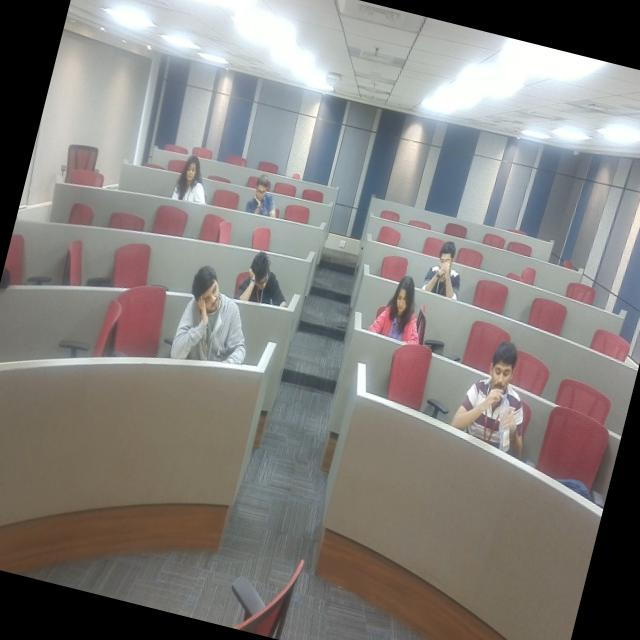non-cheating: (160, 237, 264, 402), (406, 217, 474, 310)
